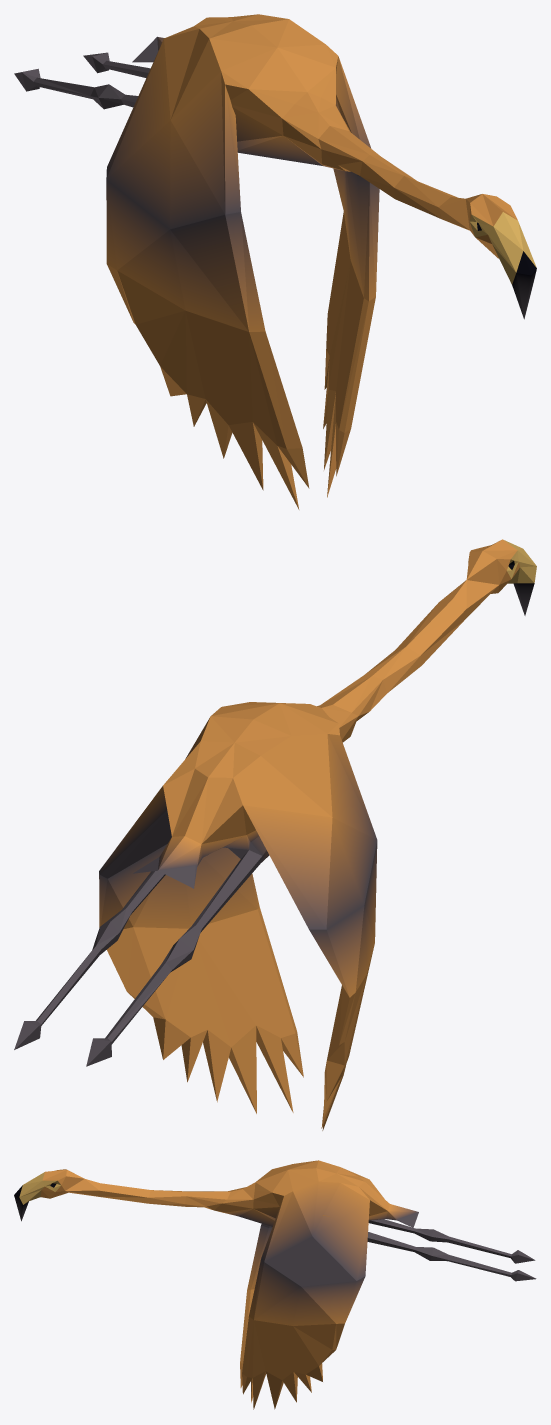
Rendered from Flamingo_orange_v4_dark_neck.glb.
The picture shows the model from 3 angles, top to bottom: view 1: azimuth 30°, elevation 25°; view 2: azimuth 150°, elevation 25°; view 3: azimuth 270°, elevation 25°; orthographic projection. The views are drawn at different scales.
Bounding box in the file's own units: 52.2 × 89.1 × 177.
